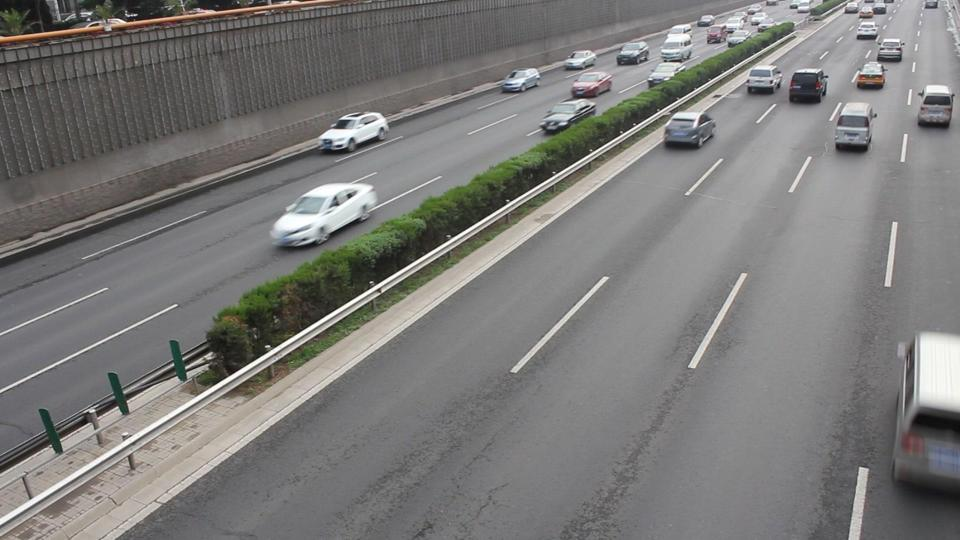Car: (269, 182, 375, 246), (317, 110, 390, 152), (538, 97, 595, 133), (660, 110, 713, 148), (785, 68, 826, 102)
Minivan: (895, 333, 960, 481), (913, 84, 960, 126), (832, 102, 871, 150)
